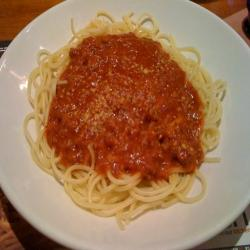bolonese_pasta: (19, 14, 241, 224)
